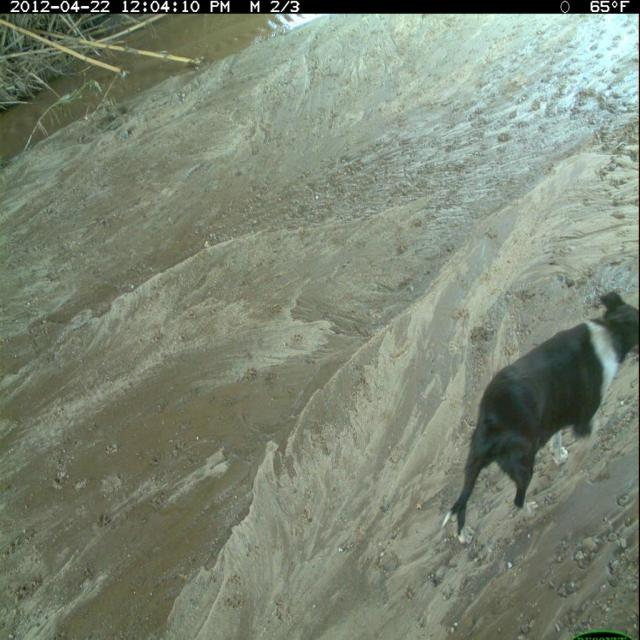dog: (437, 285, 639, 554)
